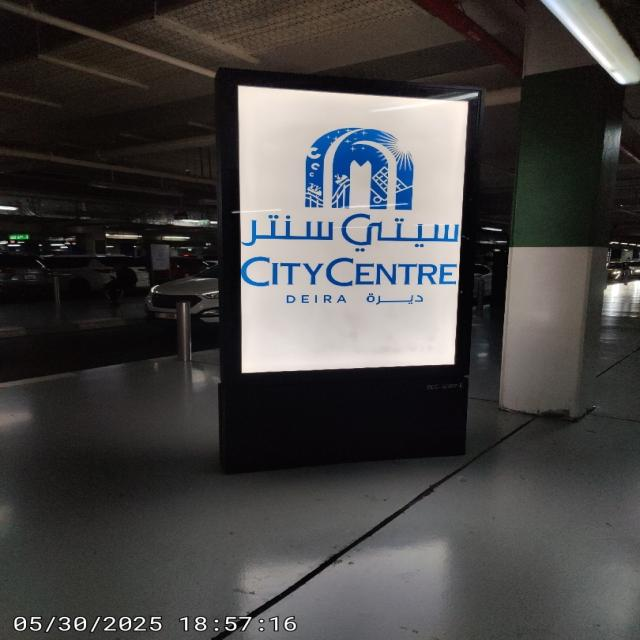mupi: (221, 65, 484, 467)
